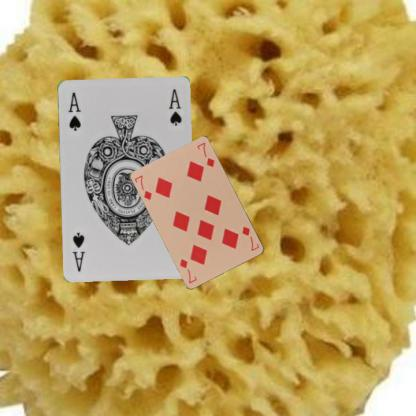7d: (132, 172, 153, 202), (240, 223, 260, 252)
As: (64, 90, 82, 132)
